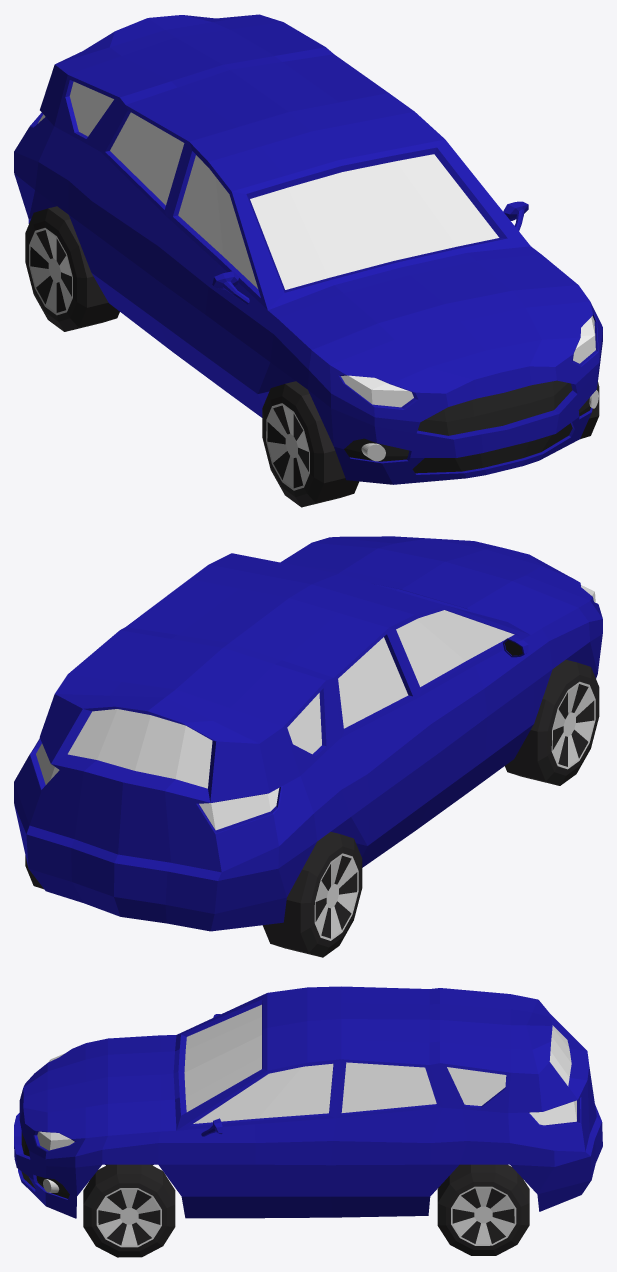
File: 3blue.fbx
The picture shows the model from 3 angles, top to bottom: view 1: azimuth 30°, elevation 25°; view 2: azimuth 150°, elevation 25°; view 3: azimuth 270°, elevation 25°; orthographic projection. The views are drawn at different scales.
Parts seen in each view (by area): view 1: Cube; view 2: Cube; view 3: Cube.
Part boxes in pixels (x1=…): Cube: x1=14, y1=14, x2=602, y2=507; Cube: x1=14, y1=536, x2=602, y2=957; Cube: x1=14, y1=986, x2=602, y2=1257.
Bounding box in the file's own units: 116 × 88.42 × 250.
